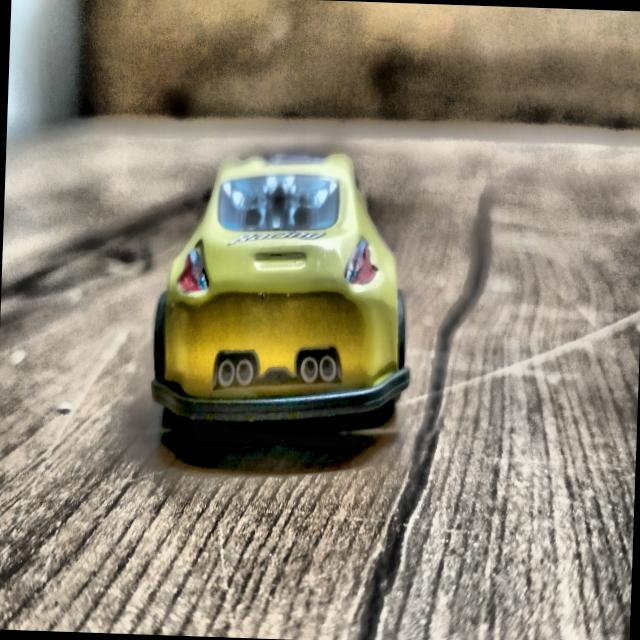Car: (150, 150, 416, 426)
